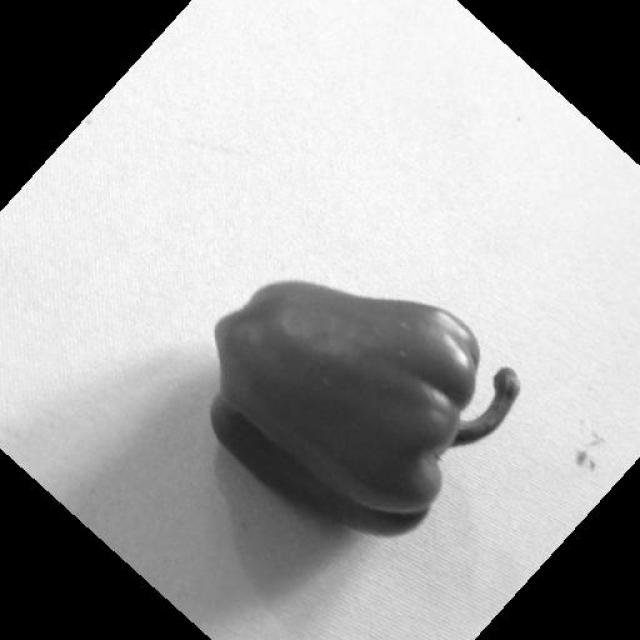Fresh_Capsicum: (214, 238, 508, 543)
